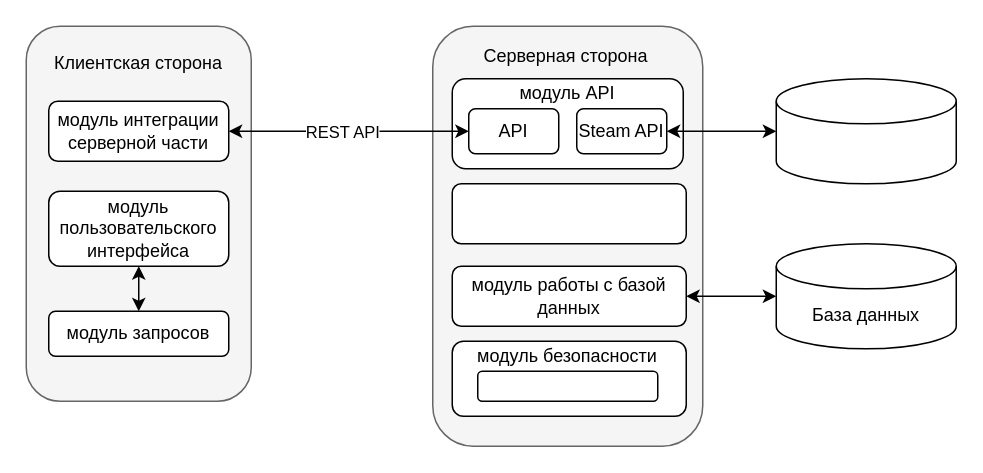
The diagram is 983 pixels wide and 473 high, and some of its shapes have lost their labels. Each missing label, with the box of its shape:
Steam WebAPI: (775, 77, 956, 184)
модуль авторизации: (476, 370, 658, 401)
модуль бизнес-логики: (451, 182, 686, 244)
